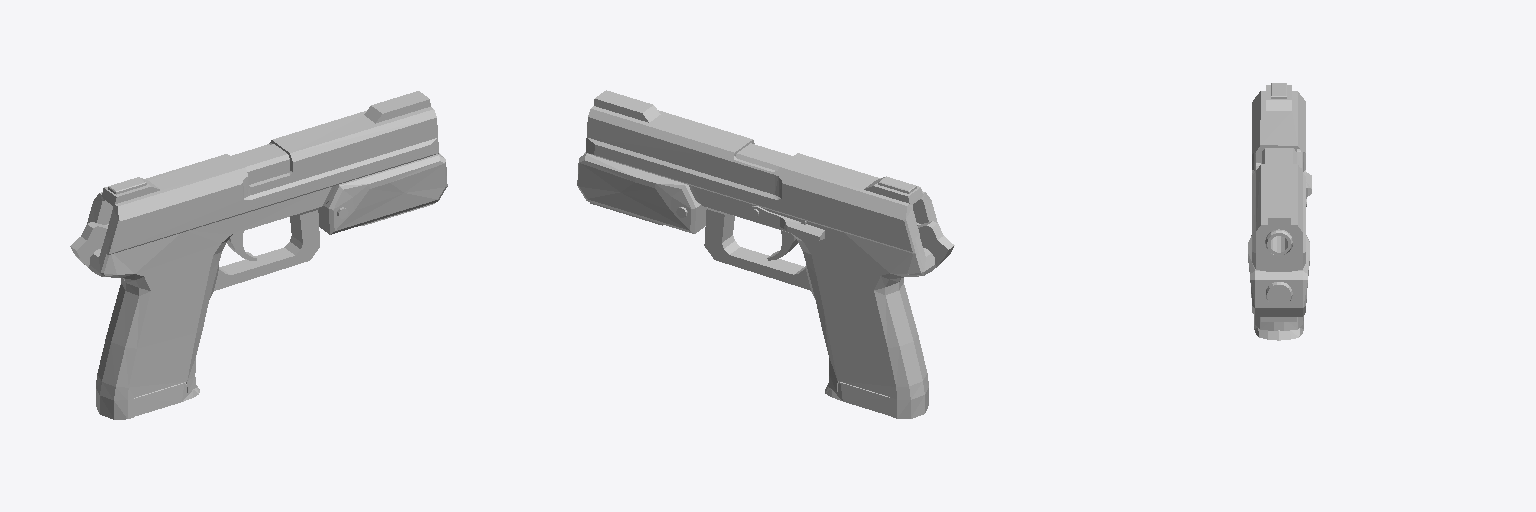
The model's file is pistol2_000015.obj.
3 views of the same model, side by side, from view 1: azimuth 30°, elevation 25°; view 2: azimuth 150°, elevation 25°; view 3: azimuth 270°, elevation 25° (orthographic).
Visible parts, largest first — view 1: Pistol; view 2: Pistol; view 3: Pistol.
Boxes of the visible parts, x1,y1,x2,y2 form: Pistol: [70, 91, 447, 419]; Pistol: [577, 90, 954, 418]; Pistol: [1248, 83, 1311, 340].
Bounding box in the file's own units: 0.9501 × 0.5966 × 0.1441.